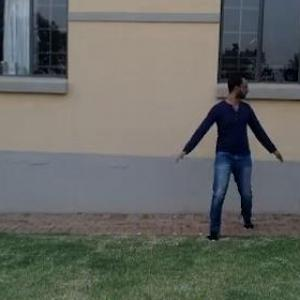land: (178, 71, 280, 242)
